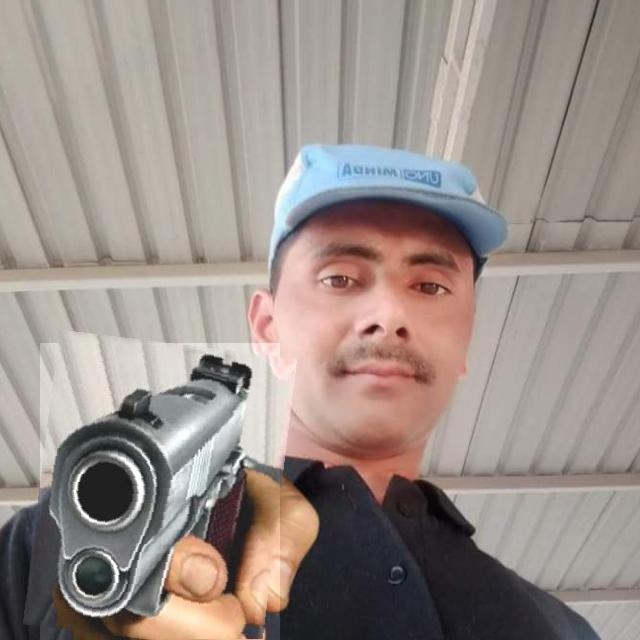handgun: (32, 336, 289, 640)
